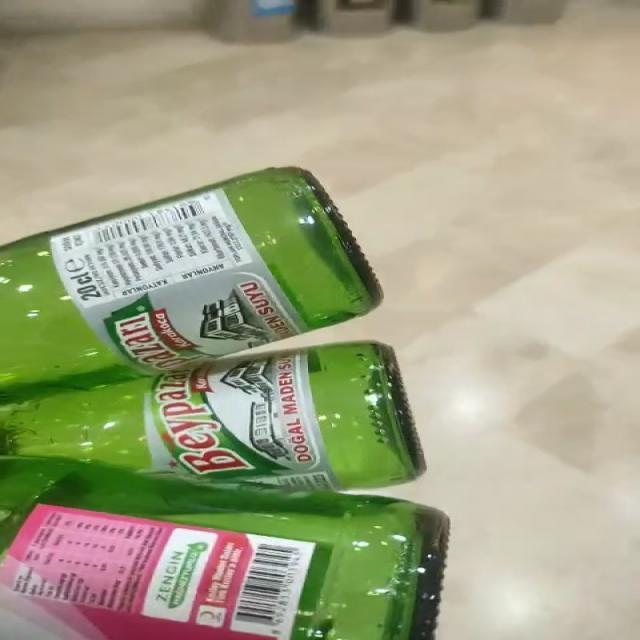Glass: (0, 167, 449, 640)
